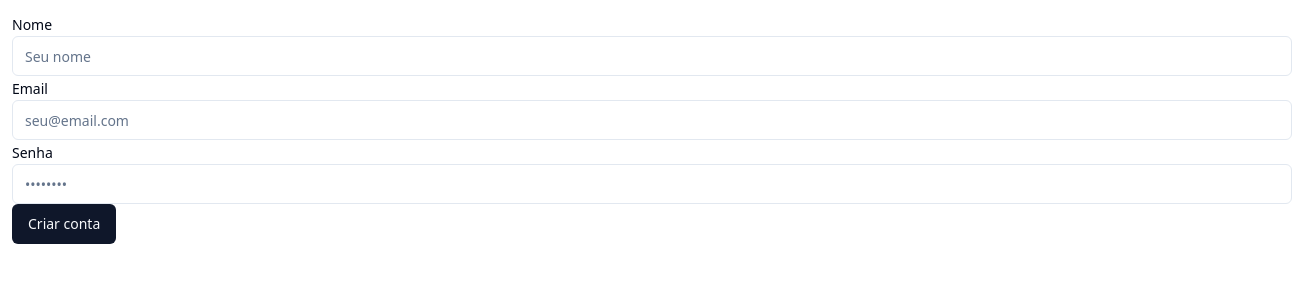
Test: RegisterForm › should show error message when registration fails
The image size is (1304, 285).
In the field labelled "Nome": (652, 56) [12,36,1292,76], type "João"
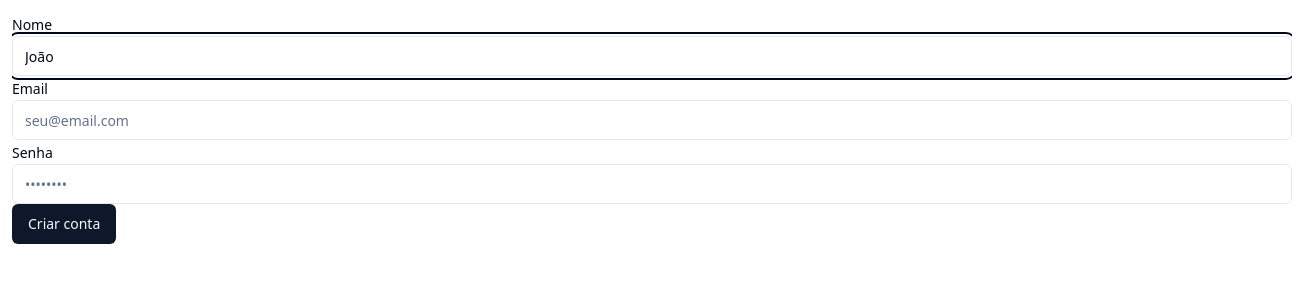
In the field labelled "Email": (652, 120) [12,100,1292,140], type "joao@test.com"
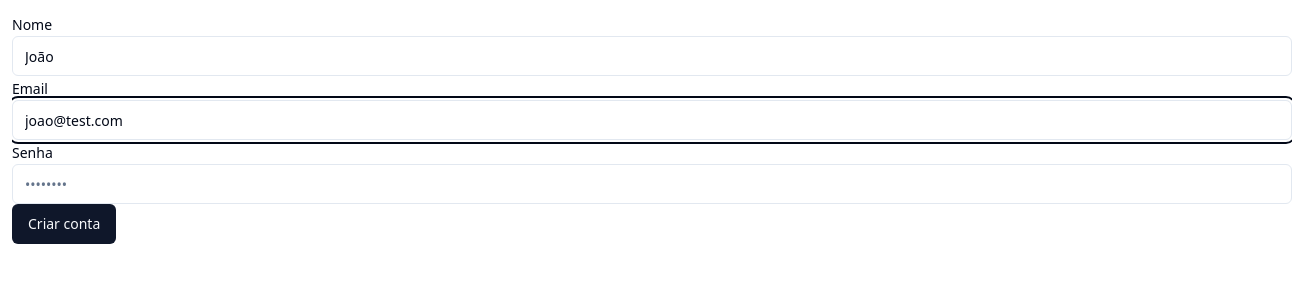
In the password field labelled "Senha": (652, 184) [12,164,1292,204], type "senha123"
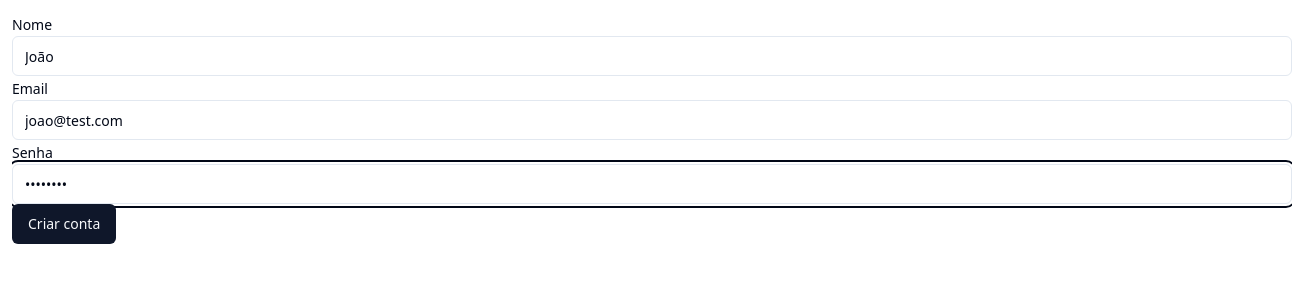
Click the button "Criar conta": (64, 224) [12,204,116,244]
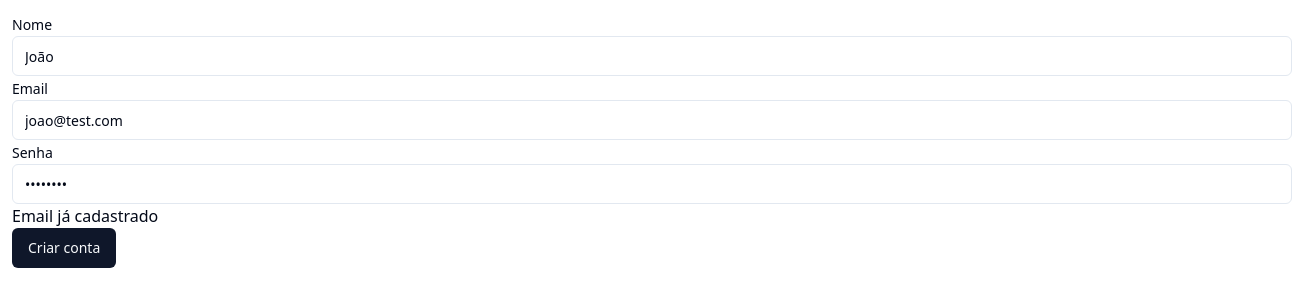
Check: the text "Email já cadastrado" is shown, box [12,205,158,227]
